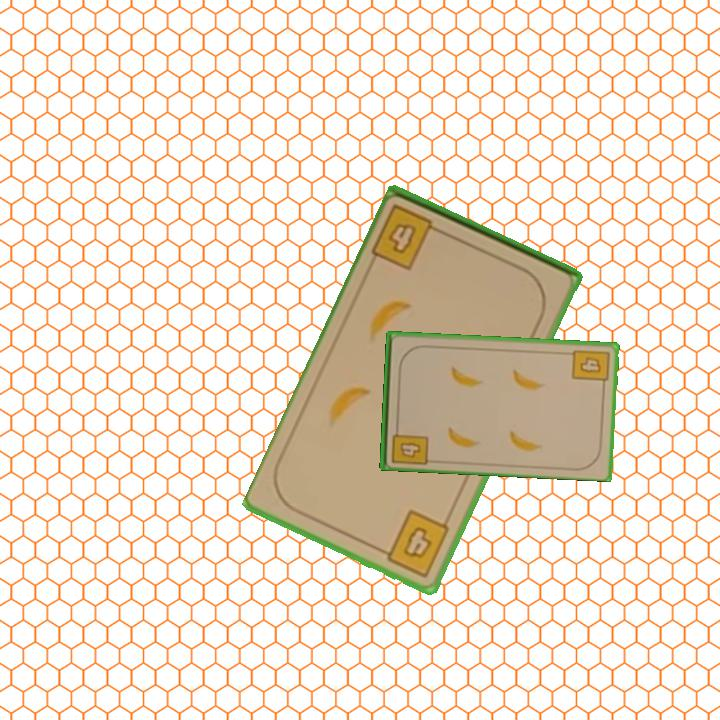4b: (375, 506, 453, 581), (368, 201, 448, 273), (388, 421, 430, 467), (569, 346, 612, 390)
